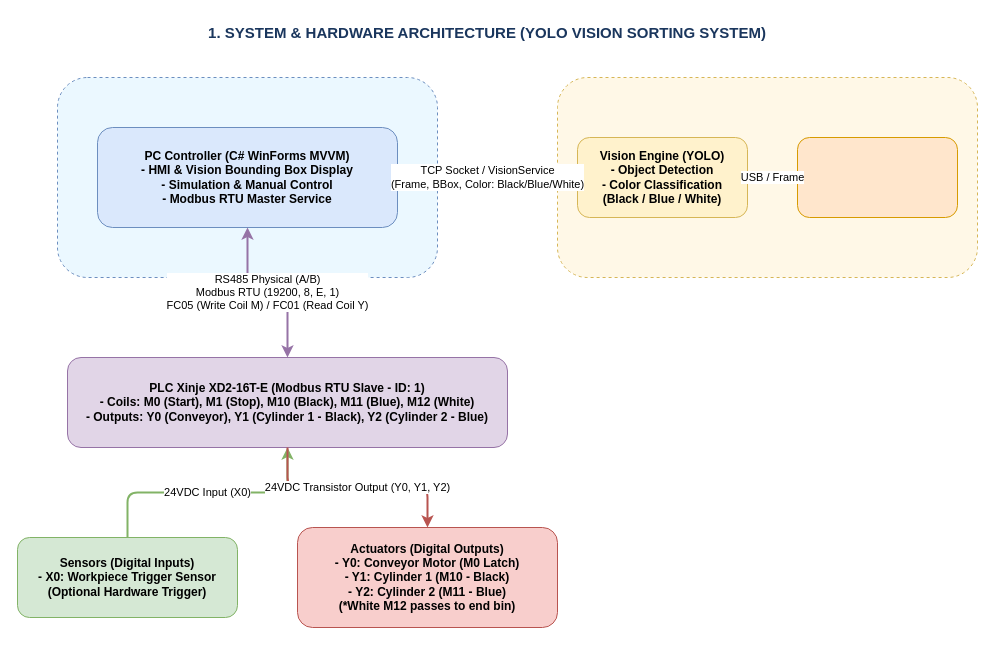
Image size: 995x645. Some labels were removed from this diagram. The box of each missing label's shape, as (x1, y1, x2, y2) in pixels:
Industrial / USB Camera (Capture Cylinder Workpiece): (796, 136, 958, 218)
PC CONTROL STATION (Thinh): (56, 76, 438, 278)
VISION SUBSYSTEM (Quoc): (556, 76, 978, 278)
